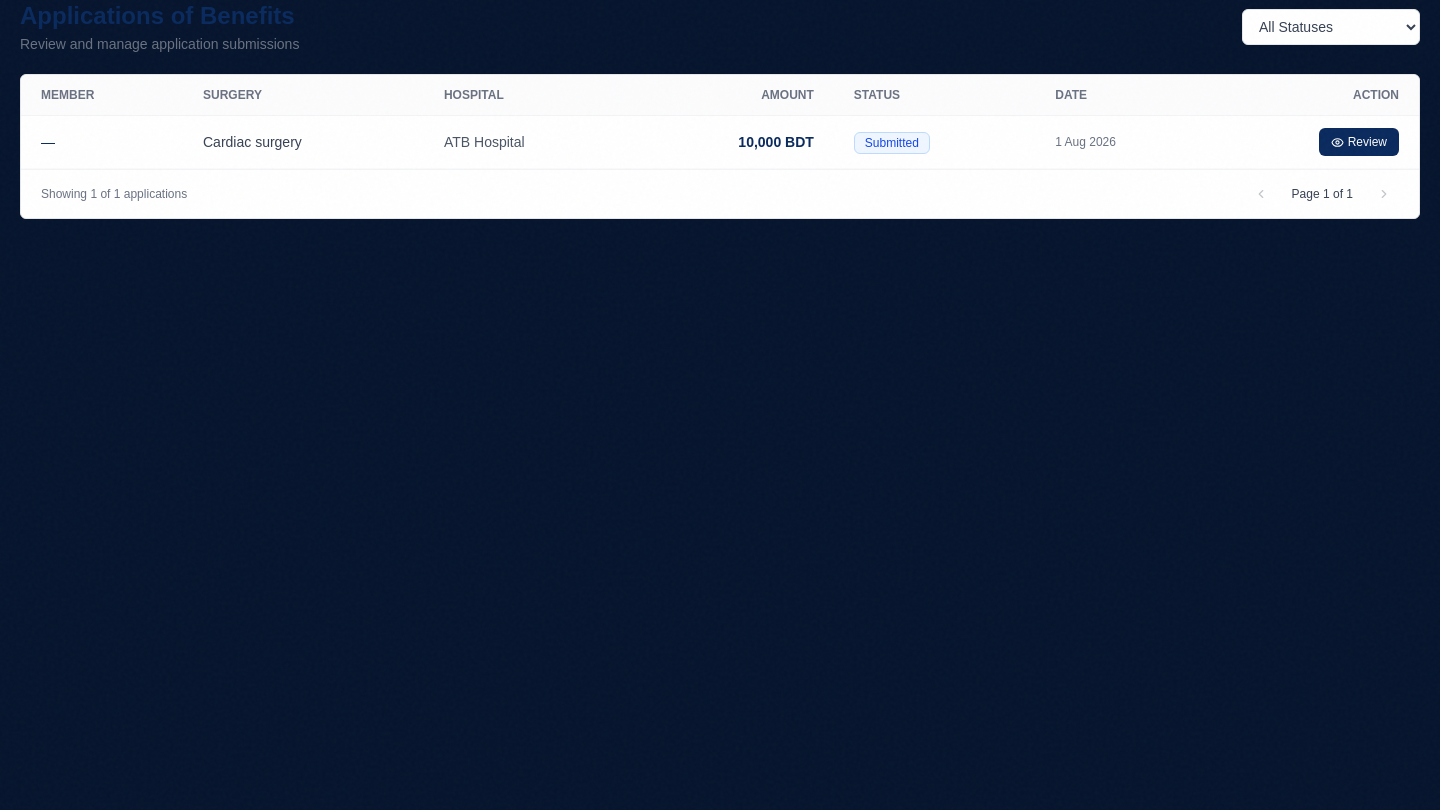
Test: AdminClaimsPage › submits an approval with the selected amount
Expected: the text "Cardiac surgery" is shown, [183, 116, 424, 168]
Click the button "Review" at (1359, 142), box [1319, 128, 1399, 156]
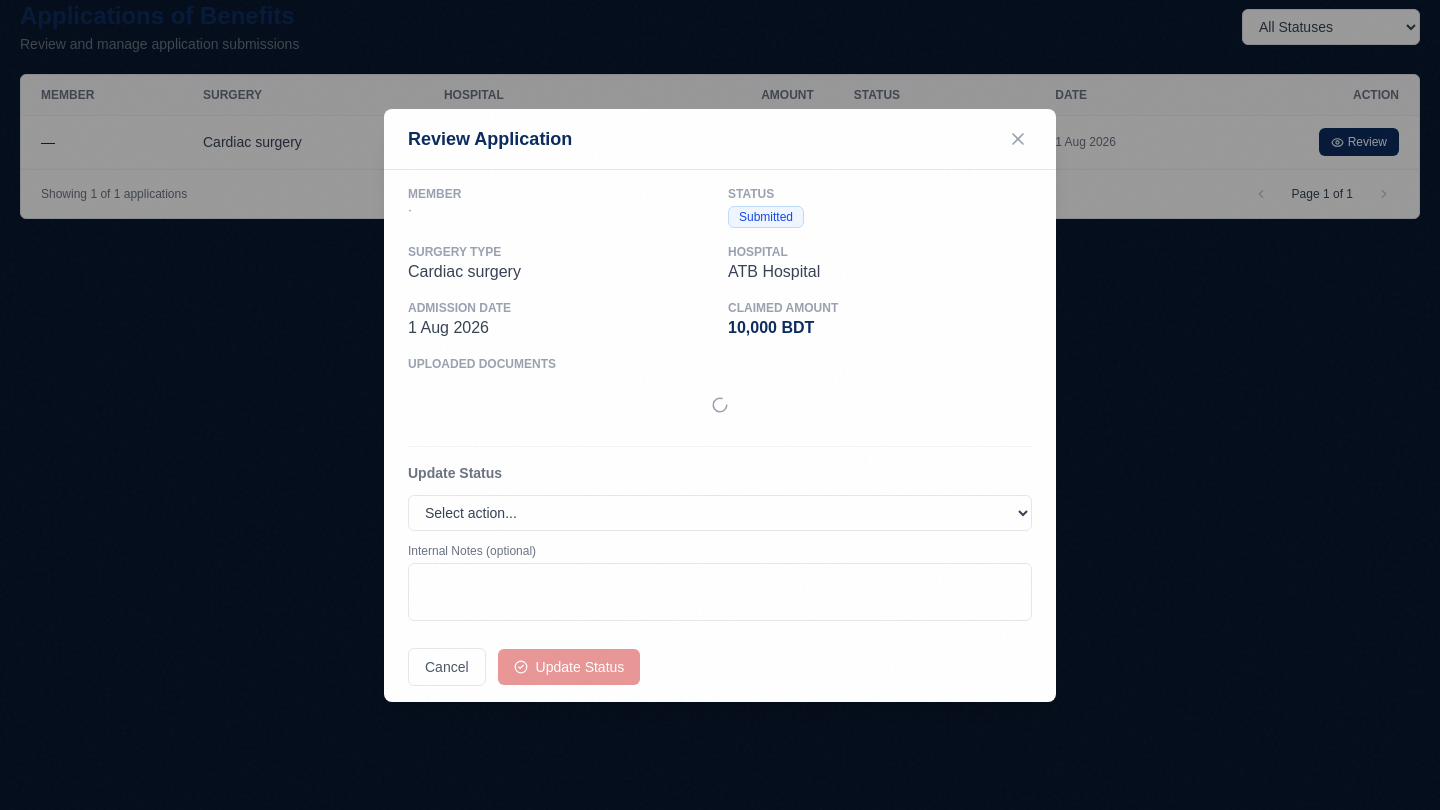
Select "Approve Application" in the dropdown at (720, 512), box [408, 494, 1032, 530]
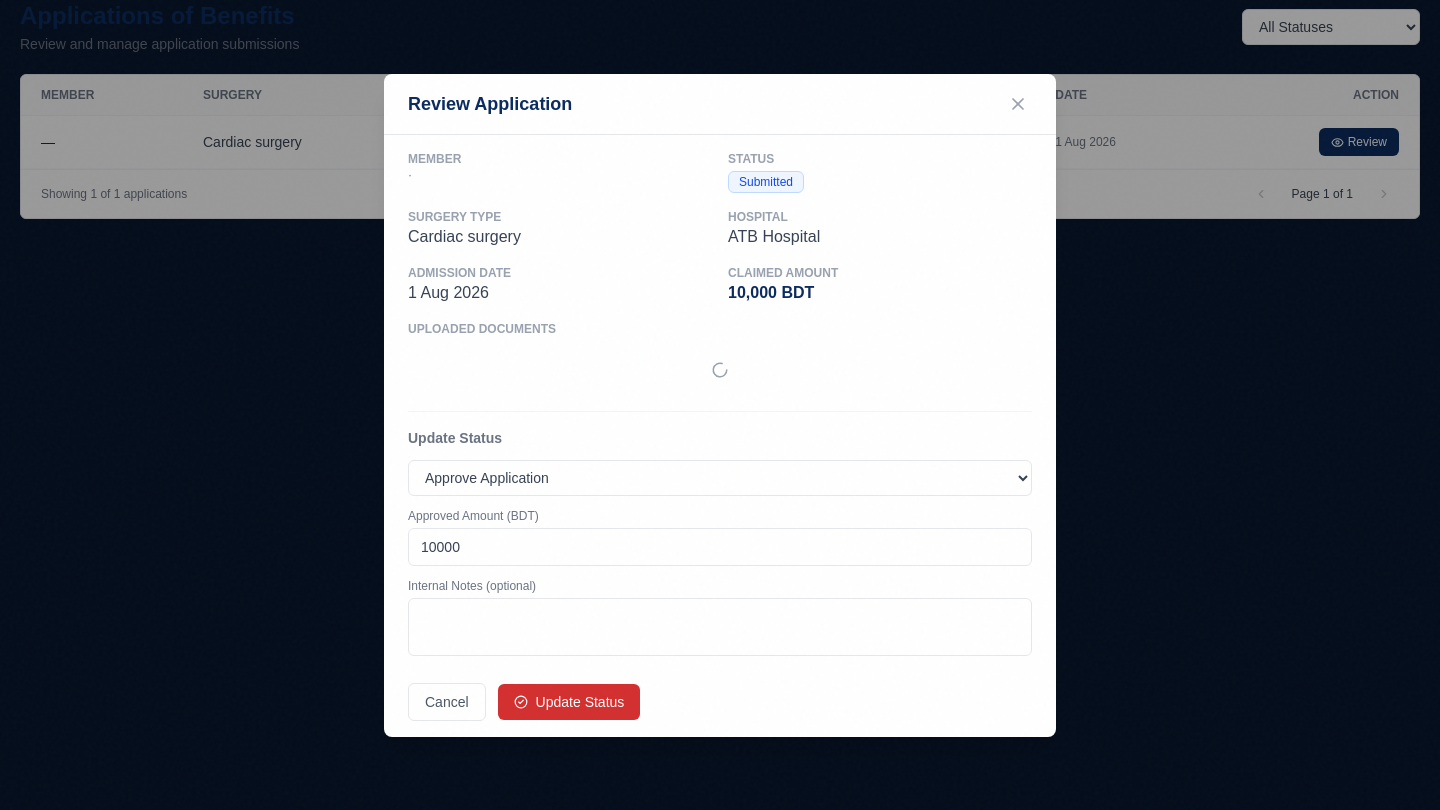
Replace the text in the number field with "8500" at (720, 546), box [408, 528, 1032, 566]
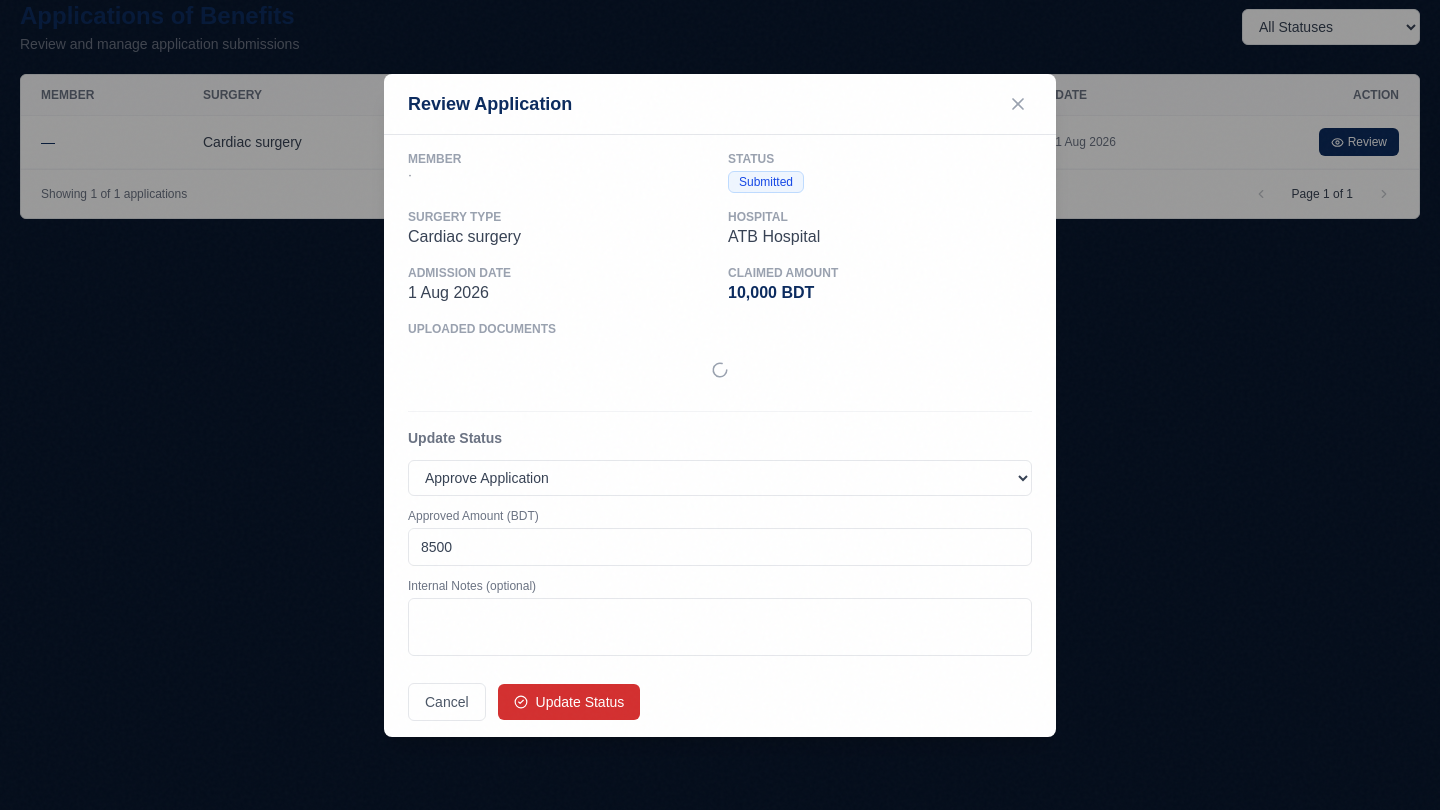
Click the button "Update Status" at (569, 702), box [498, 684, 640, 720]
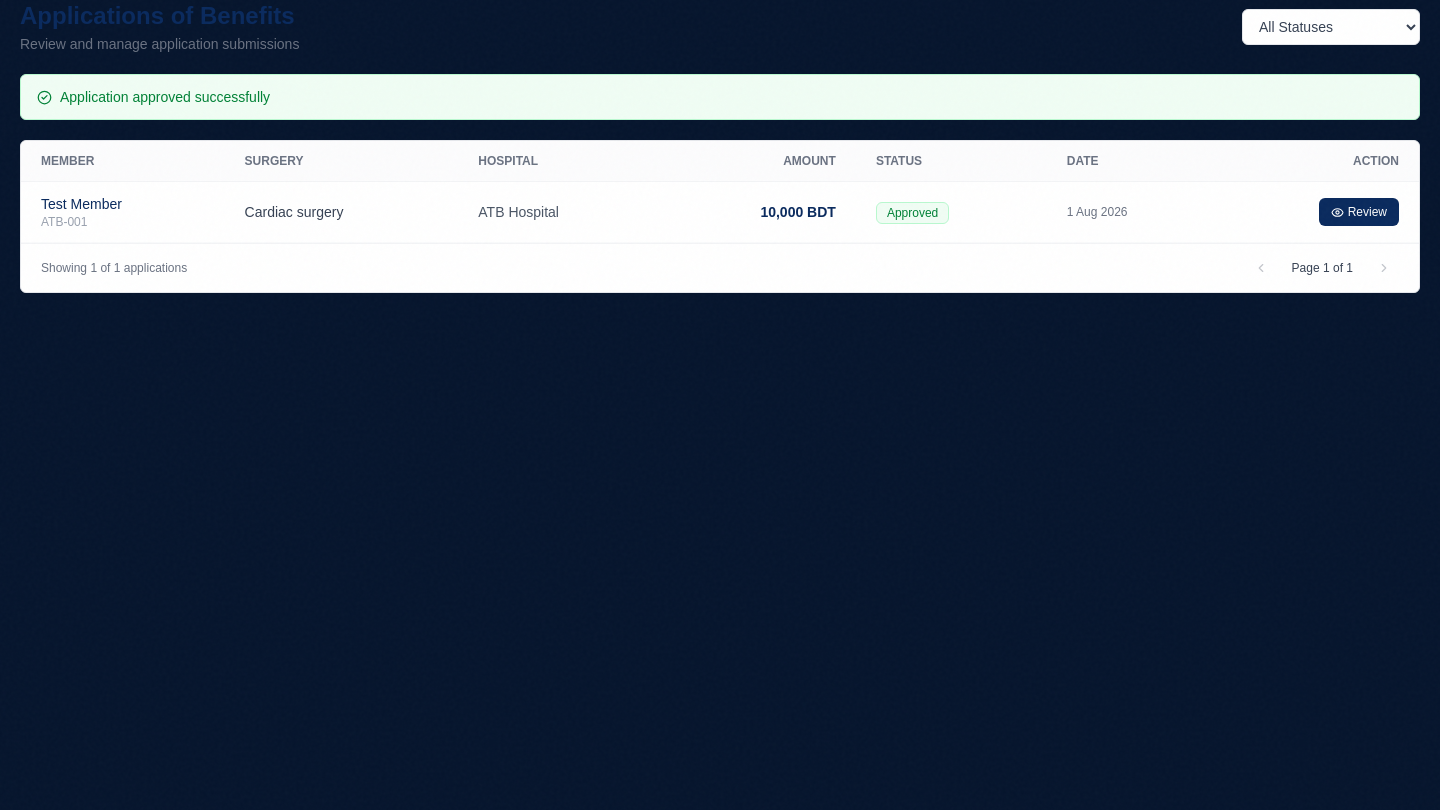
Result: the text "Application approved successfully" is shown at [20, 74, 1420, 120]
